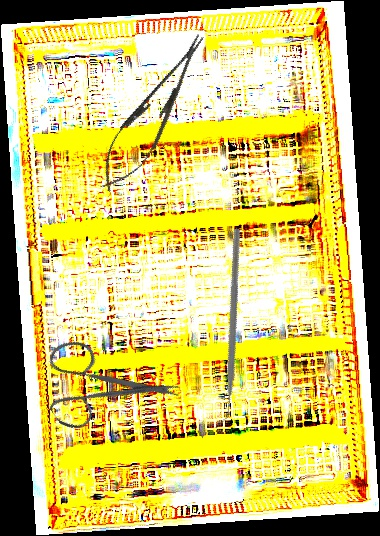Chopper: (133, 225, 320, 431)
Iris Scissors: (22, 301, 185, 463)
Needle Holder: (87, 23, 221, 202)
